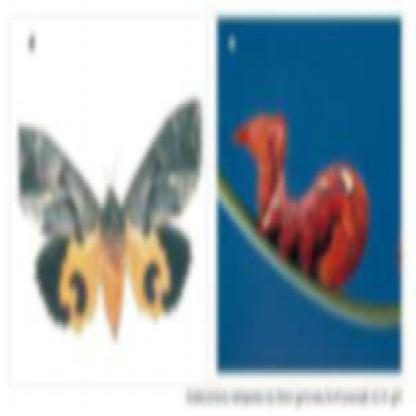fruit sucking moth: (15, 101, 201, 340)
